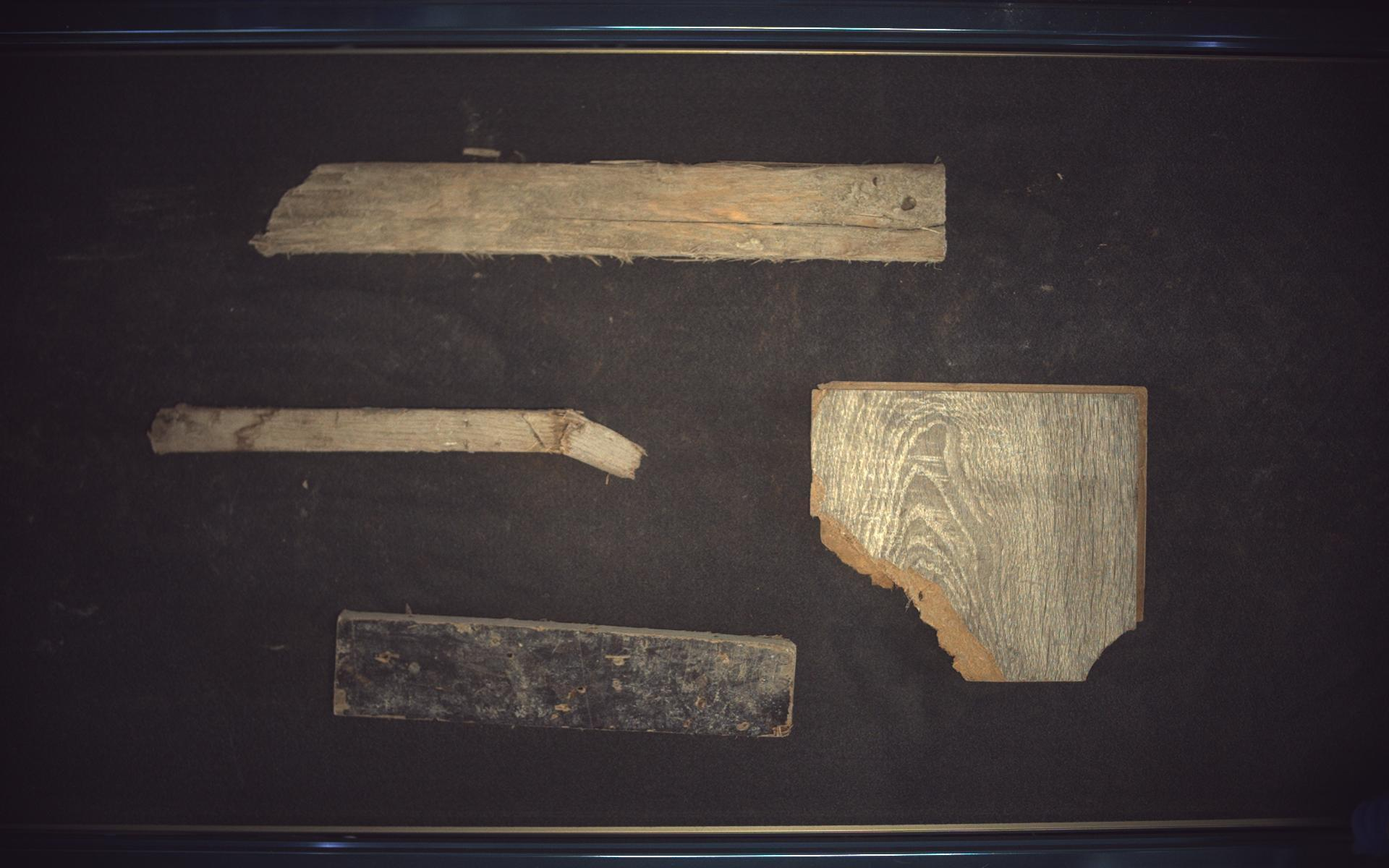wood: (812, 382, 1150, 683), (251, 160, 948, 261), (333, 611, 797, 739), (148, 404, 646, 479)
